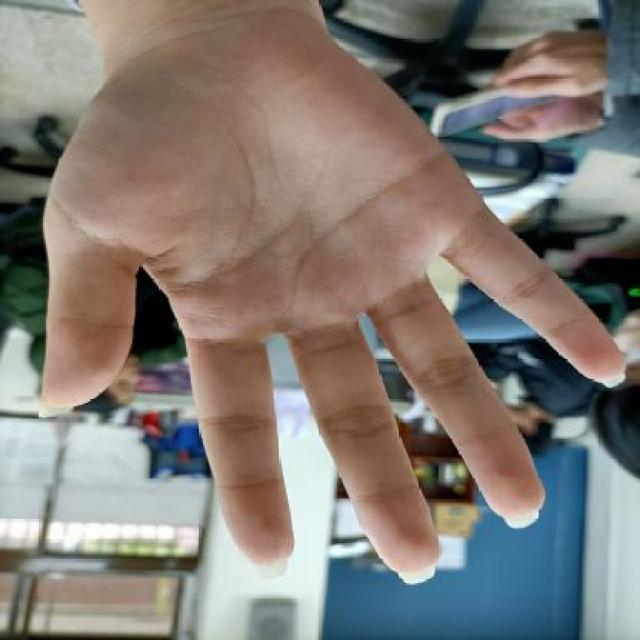bare_hand: (10, 6, 639, 600)
